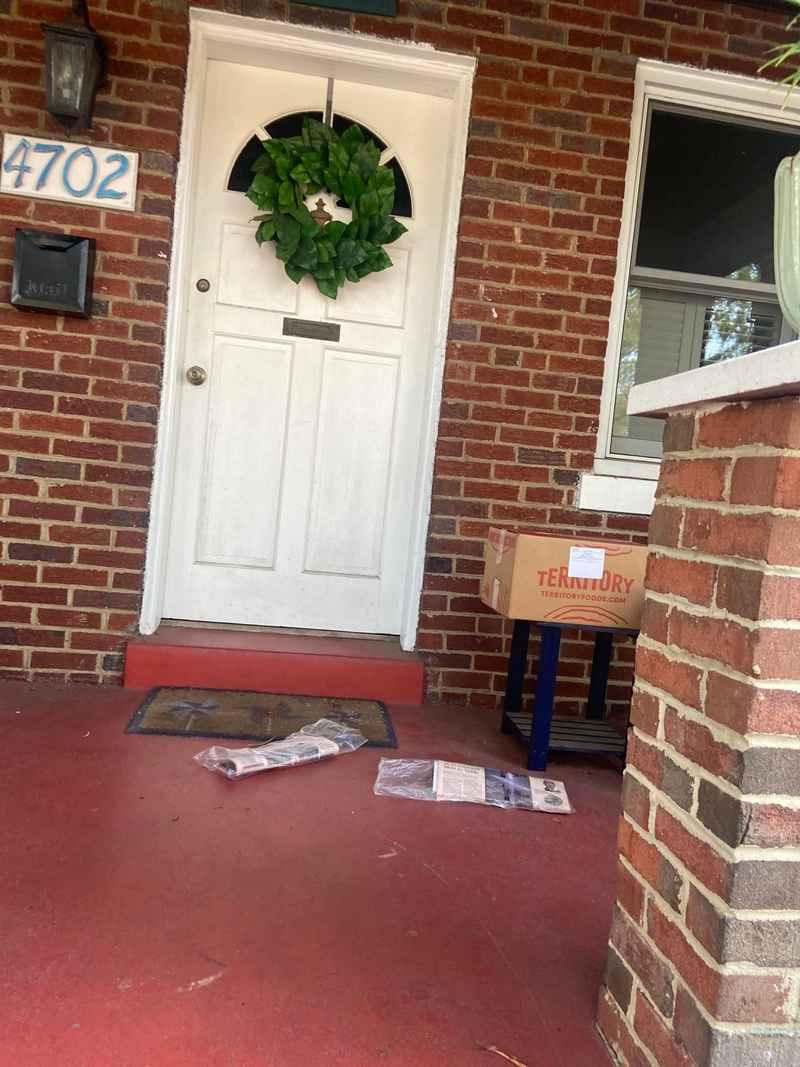package: (481, 522, 653, 635)
